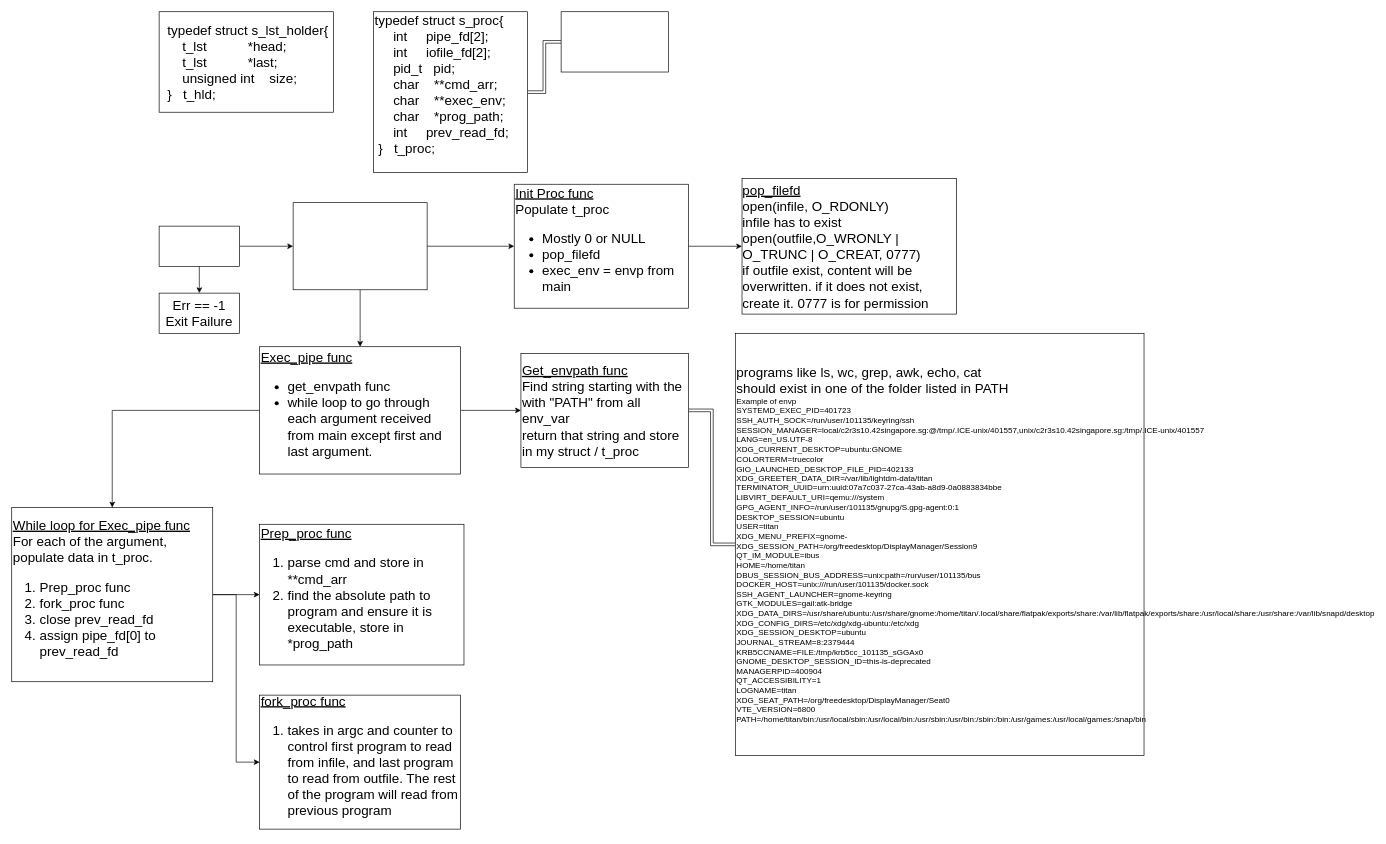
This 1386x844 diagram has some shape labels left out. Each missing label, with the centre of its shape:
iofile_fd are file descriptor for infile and outfile: (x=614, y=41)
main: (x=199, y=245)
Pipex func Init Proc Exec Pipe: (x=359, y=246)
